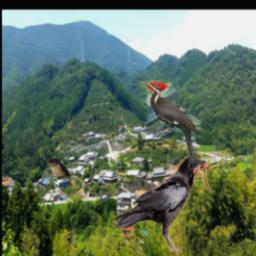Crow: (113, 153, 216, 254)
Swallow: (45, 157, 71, 180)
Woodpecker: (136, 81, 203, 165)
